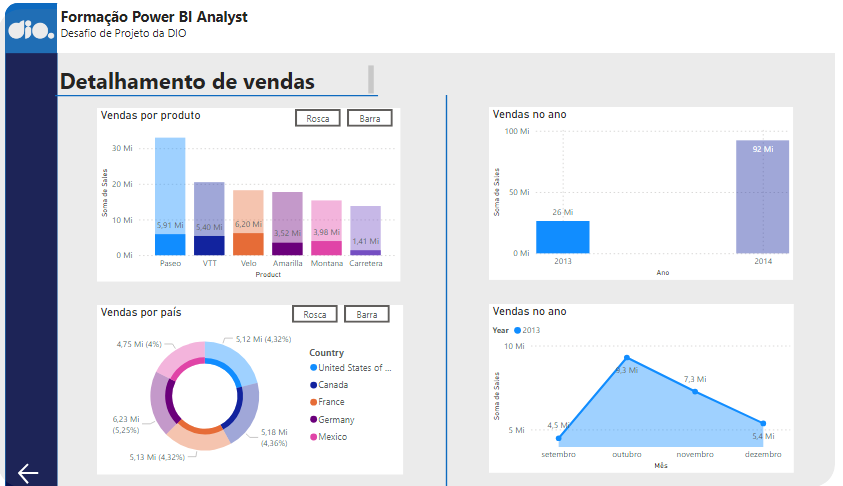

What the dashboard file says about the page in this screenshot:
{"tool":"powerbi","page":{"name":"Página 3","canvas":[1280,720],"ordinal":2},"visuals":[{"type":"shape","box":[10.1,13.4,77.2,706.3],"z":0},{"type":"shape","box":[83.9,127.8,473,37.1],"z":0,"group":"g1"},{"type":"shape","box":[10,11.8,77.3,73.6],"z":1000},{"type":"textbox","box":[85.3,97.6,470.2,52.2],"z":1000,"group":"g1"},{"type":"image","title":"logo_dio","box":[10.1,18.5,77.2,62.1],"z":2000},{"type":"shape","box":[0,20,1225,700],"z":3000},{"type":"shape","title":"Fundo do Título","box":[86.7,11.7,1193.3,73.3],"z":4000},{"type":"textbox","box":[86.7,11.7,325,66.7],"z":5000},{"type":"actionButton","box":[25,680,61.7,40],"z":6000},{"type":"group","id":"g1","title":"Sales report","box":[83.9,97.6,473,67.4],"z":7000},{"type":"shape","box":[506.7,146.7,300,573.3],"z":8000},{"type":"lineChart","title":"Vendas no ano","fields":{"Category":["financials.Date.Variation.Hierarquia de datas.Ano","financials.Date.Variation.Hierarquia de datas.Trimestre","financials.Date.Variation.Hierarquia de datas.Mês","financials.Date.Variation.Hierarquia de datas.Dia"],"Y":["Sum(financials. Sales)"],"Series":["financials.Year"]},"box":[718.5,452.2,446.3,247.3],"z":11000},{"type":"columnChart","title":"Vendas no ano","fields":{"Category":["financials.Date.Variation.Hierarquia de datas.Ano","financials.Date.Variation.Hierarquia de datas.Trimestre","financials.Date.Variation.Hierarquia de datas.Mês","financials.Date.Variation.Hierarquia de datas.Dia"],"Y":["Sum(financials. Sales)"]},"box":[718.5,163.9,444.9,253.2],"z":12000},{"type":"group","id":"g2","title":"Grupo vendas por país","box":[145,451.7,448.3,248.3],"z":12500},{"type":"group","id":"g3","title":"Grupo vendas por produto","box":[145.6,165.6,445.9,254.4],"z":13000},{"type":"columnChart","title":"Vendas por produto","fields":{"Y":["Sum(financials. Sales)"],"Category":["financials.Product"]},"box":[145.6,165.6,444.4,254.4],"z":13250,"group":"g3"},{"type":"actionButton","title":"Botão rosca produtos","box":[435,167,67,26],"z":13500,"group":"g3"},{"type":"actionButton","title":"Botão barra produto","box":[512,167,67,26],"z":13750,"group":"g3"},{"type":"columnChart","title":"Vendas por país","fields":{"Category":["financials.Country"],"Y":["Sum(financials. Sales)"]},"box":[145,451.7,448.3,246.7],"z":14500,"group":"g2"},{"type":"actionButton","title":"Botão rosca país","box":[430,453,67,26],"z":15000,"group":"g2"},{"type":"actionButton","title":"Botão barra país","box":[507,453,67,26],"z":16000,"group":"g2"}]}

Visuals, with their boxes on the page's 1280x720 design canvas (x1, y1, x2, y2). These are canvas units, not pixel positions in the 843x486 screenshot, which may show the page scaled, cropped or inside an application window:
shape: [x1=10, y1=13, x2=87, y2=720]
shape: [x1=84, y1=128, x2=557, y2=165]
shape: [x1=10, y1=12, x2=87, y2=85]
textbox: [x1=85, y1=98, x2=556, y2=150]
"logo_dio" image: [x1=10, y1=18, x2=87, y2=81]
shape: [x1=0, y1=20, x2=1225, y2=720]
"Fundo do Título" shape: [x1=87, y1=12, x2=1280, y2=85]
textbox: [x1=87, y1=12, x2=412, y2=78]
actionButton: [x1=25, y1=680, x2=87, y2=720]
"Sales report" group: [x1=84, y1=98, x2=557, y2=165]
shape: [x1=507, y1=147, x2=807, y2=720]
"Vendas no ano" lineChart: [x1=718, y1=452, x2=1165, y2=700]
"Vendas no ano" columnChart: [x1=718, y1=164, x2=1163, y2=417]
"Grupo vendas por país" group: [x1=145, y1=452, x2=593, y2=700]
"Grupo vendas por produto" group: [x1=146, y1=166, x2=592, y2=420]
"Vendas por produto" columnChart: [x1=146, y1=166, x2=590, y2=420]
"Botão rosca produtos" actionButton: [x1=435, y1=167, x2=502, y2=193]
"Botão barra produto" actionButton: [x1=512, y1=167, x2=579, y2=193]
"Vendas por país" columnChart: [x1=145, y1=452, x2=593, y2=698]
"Botão rosca país" actionButton: [x1=430, y1=453, x2=497, y2=479]
"Botão barra país" actionButton: [x1=507, y1=453, x2=574, y2=479]
